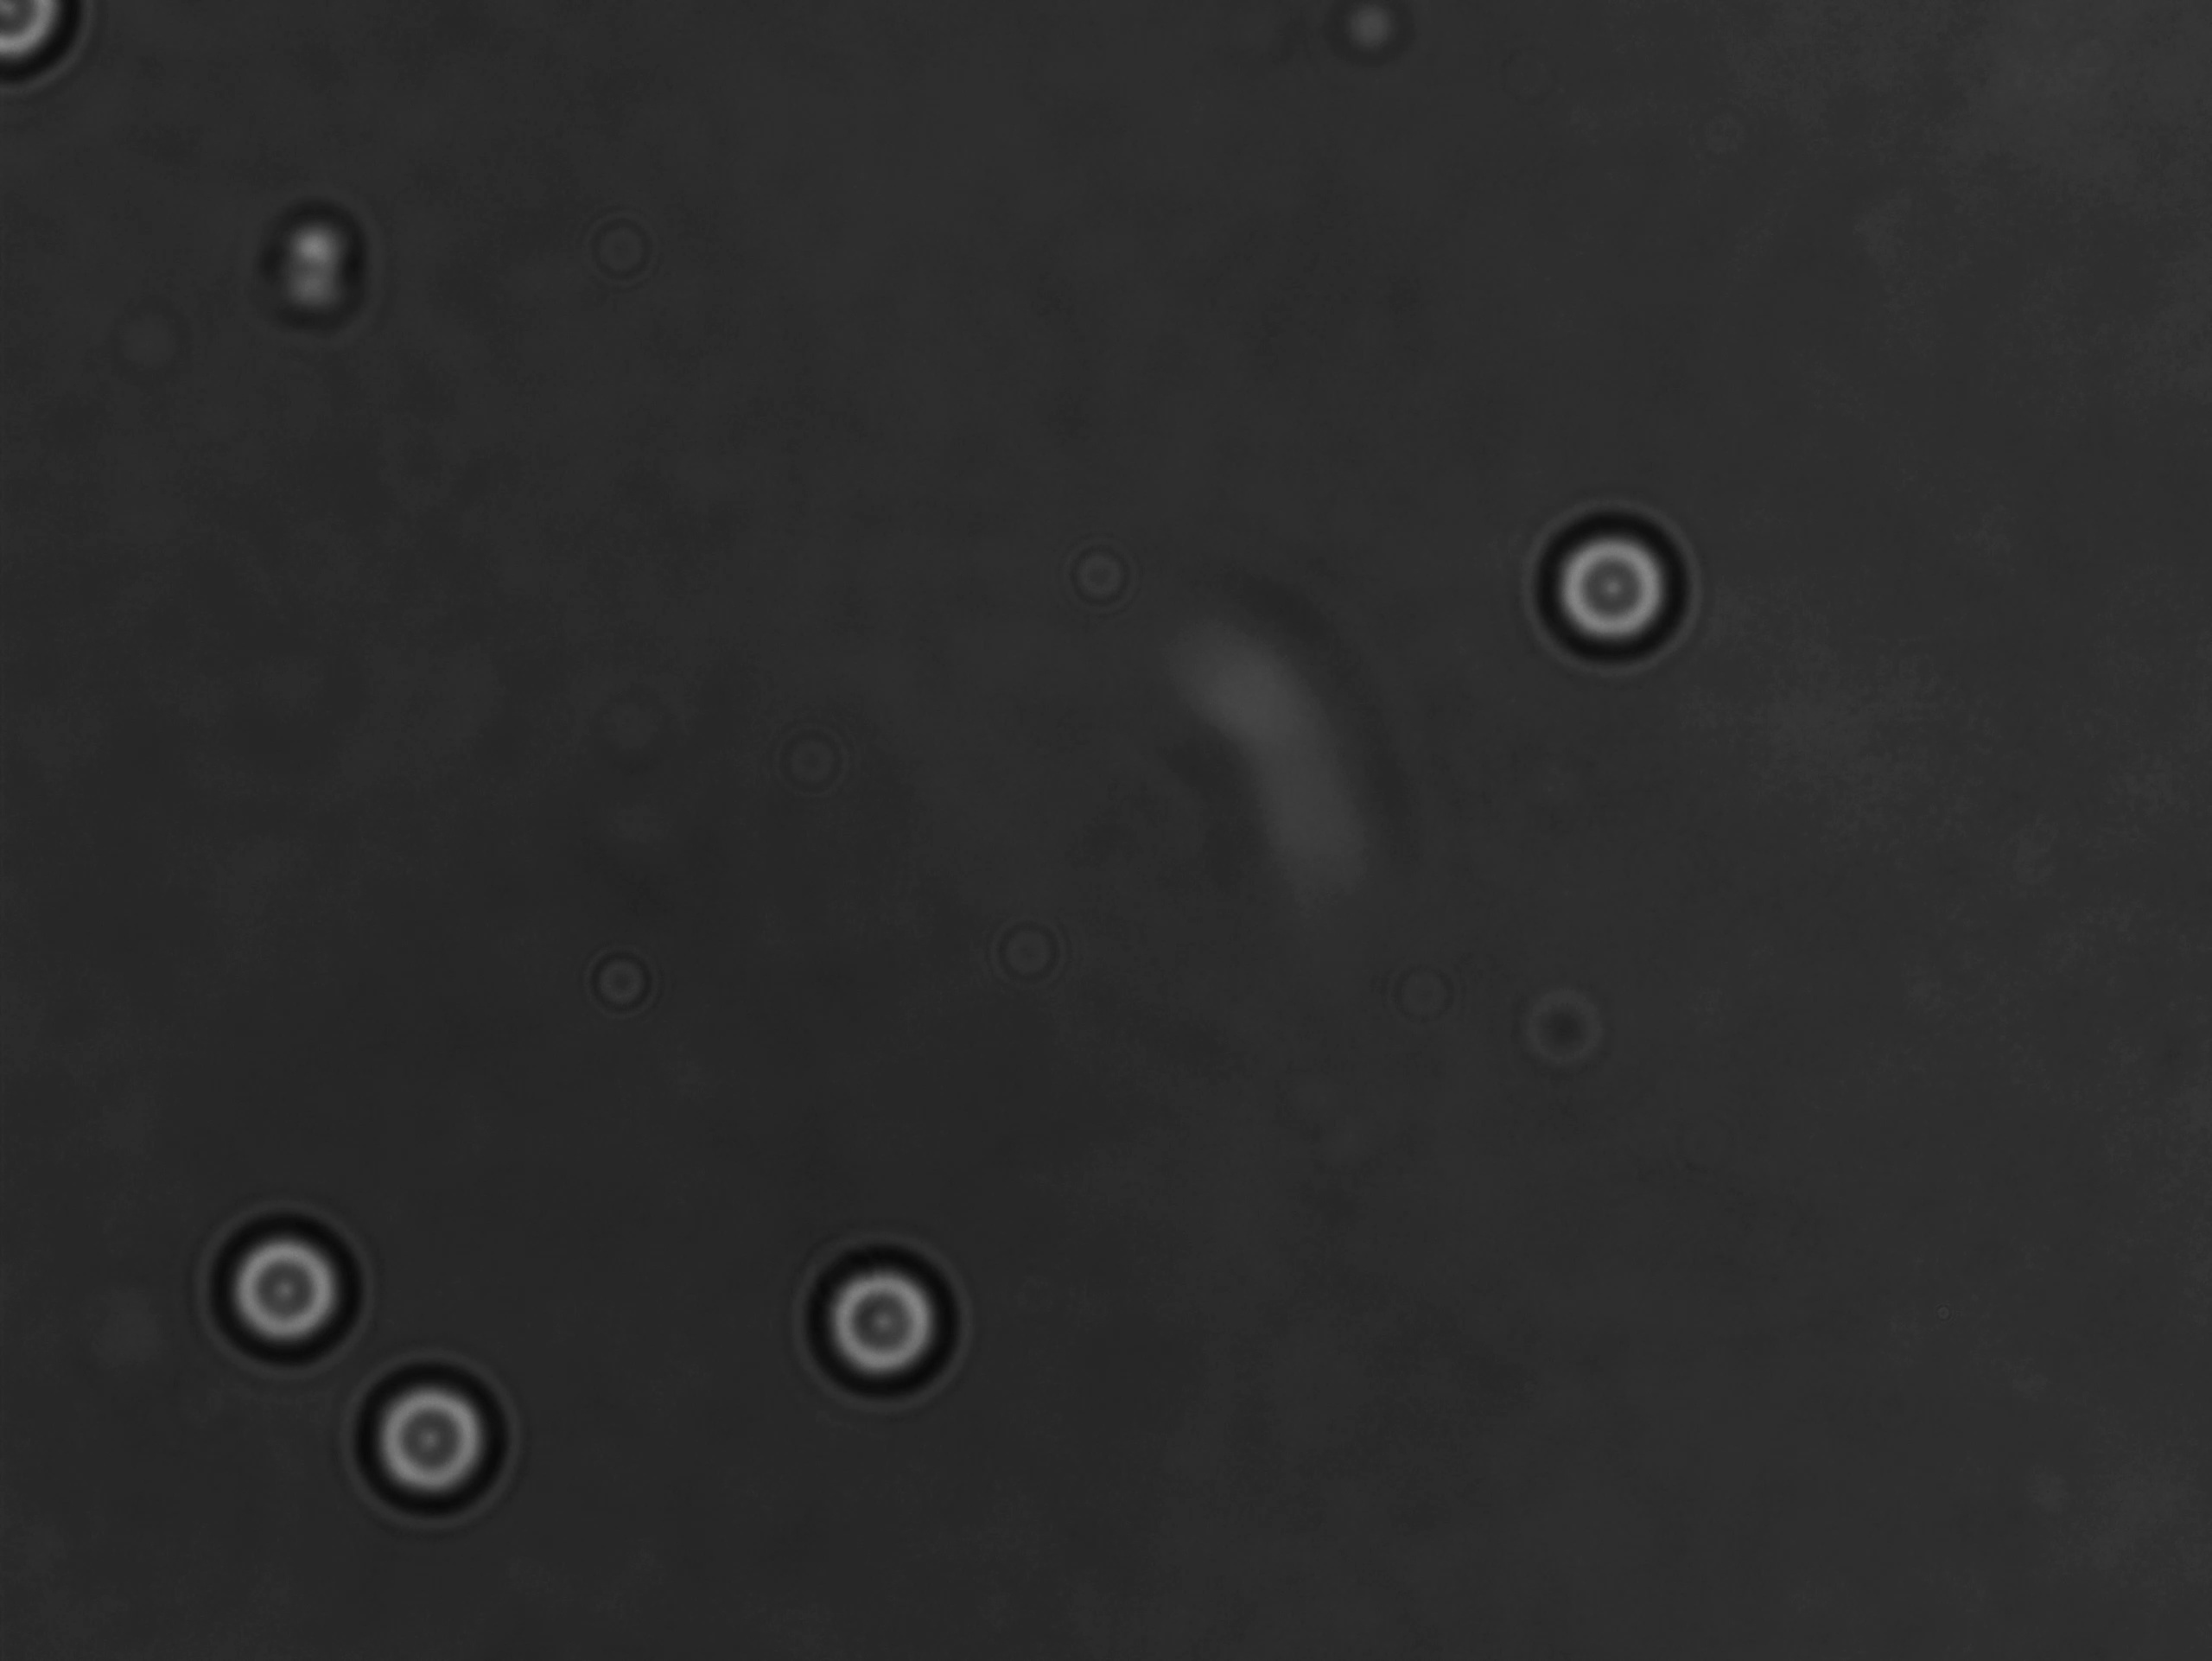depth:20: (345, 1354, 525, 1530), (1521, 492, 1692, 668), (201, 1209, 366, 1389), (797, 1230, 958, 1392)
